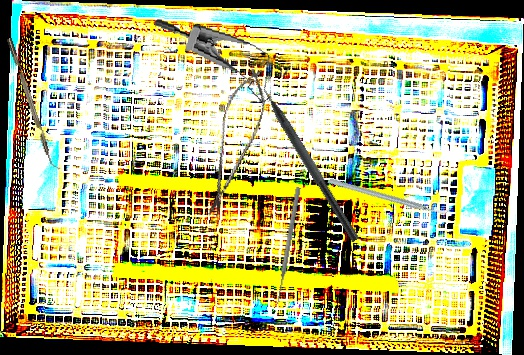Chopper: (250, 69, 371, 243), (327, 137, 452, 254), (6, 35, 62, 173)
Micro Scissor: (196, 61, 275, 224)
Pusher: (274, 186, 302, 305)
Speculum: (144, 17, 295, 106)
